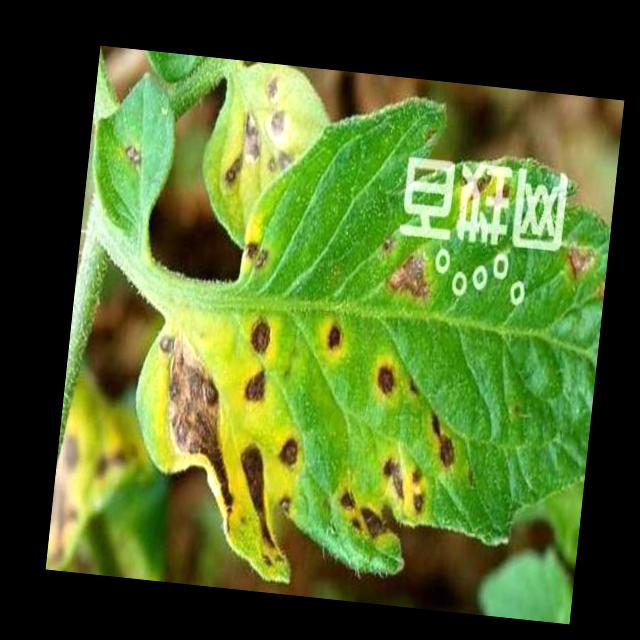Early_blight: (139, 329, 251, 540), (227, 445, 297, 568), (332, 482, 408, 547), (218, 109, 263, 190), (373, 452, 430, 514), (382, 247, 437, 304), (420, 409, 462, 473), (456, 170, 513, 206), (272, 429, 310, 478), (236, 363, 272, 413), (368, 354, 398, 404), (561, 243, 599, 282), (242, 314, 278, 355), (238, 235, 270, 276), (262, 106, 291, 146), (261, 71, 286, 105), (325, 322, 346, 351), (120, 145, 144, 165)
